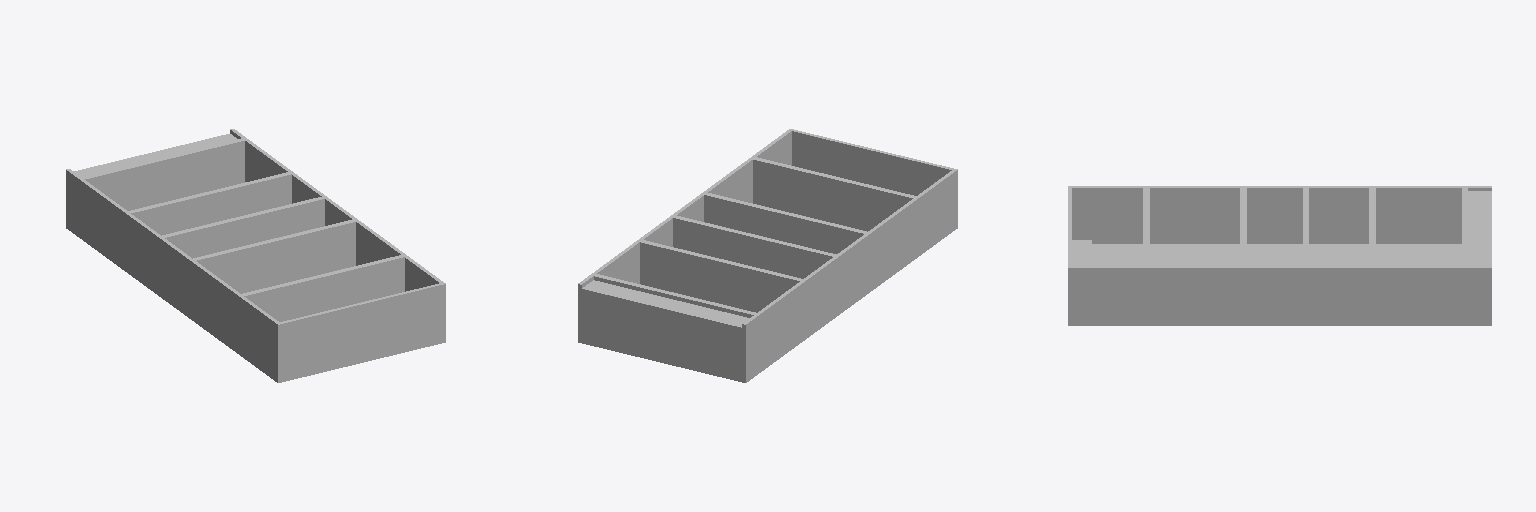
3 views of the same model, side by side, from view 1: azimuth 30°, elevation 25°; view 2: azimuth 150°, elevation 25°; view 3: azimuth 270°, elevation 25° (orthographic).
Visible parts, largest first — view 1: BookShelf1, Shelf4, Shelf1, Shelf5, Shelf2, Shelf3; view 2: BookShelf1, Shelf5, Shelf2, Shelf3, Shelf4, Shelf1; view 3: BookShelf1, Shelf2, Shelf4, Shelf5.
Boxes of the visible parts, box(x1,y1,x2,y2) form: BookShelf1: box(66, 129, 445, 382); Shelf4: box(193, 219, 355, 293); Shelf1: box(82, 138, 244, 210); Shelf5: box(242, 255, 404, 321); Shelf2: box(128, 172, 291, 235); Shelf3: box(162, 197, 324, 258); BookShelf1: box(578, 129, 957, 382); Shelf5: box(753, 157, 915, 231); Shelf2: box(640, 240, 802, 312); Shelf3: box(673, 215, 836, 278); Shelf4: box(704, 193, 866, 253); Shelf1: box(594, 274, 755, 317); BookShelf1: box(1068, 186, 1491, 325); Shelf2: box(1369, 188, 1375, 265); Shelf4: box(1240, 188, 1246, 265); Shelf5: box(1143, 188, 1149, 265).
Size of the model in its own units: 0.9 by 0.3 by 1.97.